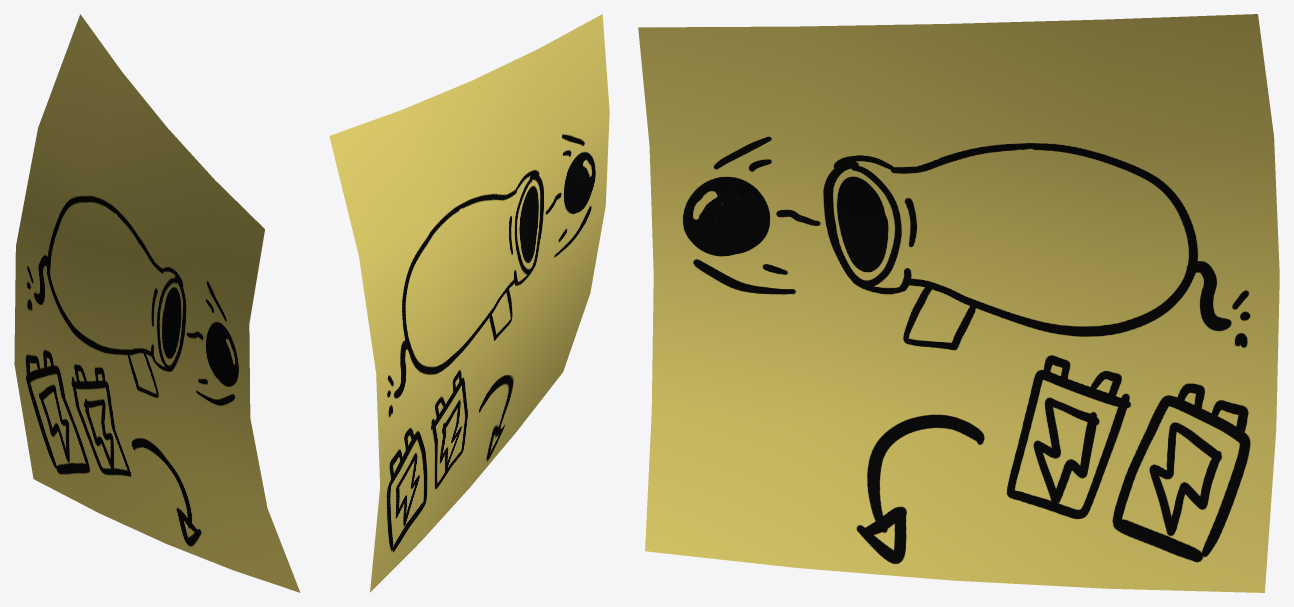
The model's file is PostItColourCannonLeft.fbx.
3 renders of one model, left to right at view 1: azimuth 30°, elevation 25°; view 2: azimuth 150°, elevation 25°; view 3: azimuth 270°, elevation 25°, orthographic. The views are drawn at different scales.
Visible parts, largest first — view 1: Cube; view 2: Cube; view 3: Cube.
Boxes of the visible parts, x1,y1,x2,y2 form: Cube: (14, 14, 300, 592); Cube: (329, 14, 609, 592); Cube: (638, 14, 1279, 592).
Bounding box in the file's own units: 147 × 1070 × 1024.
